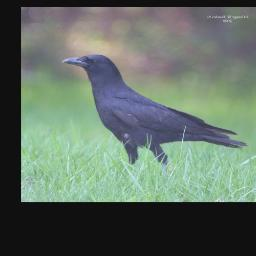Crow: (63, 53, 249, 176)
